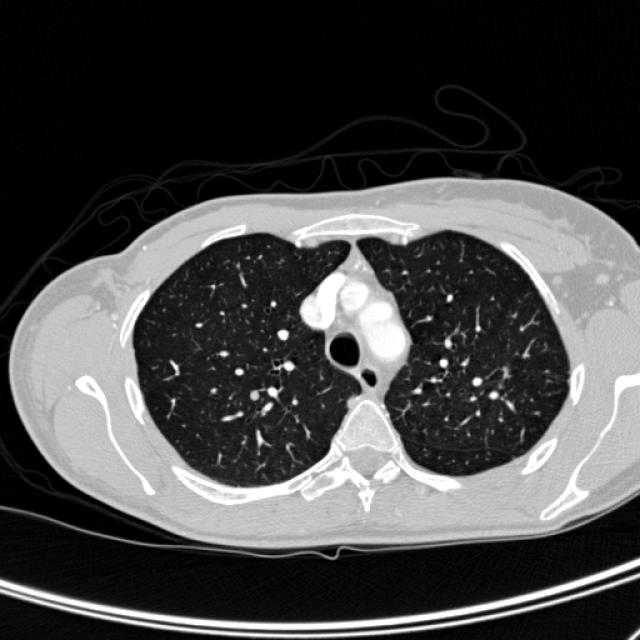nodule: (243, 384, 265, 406)
